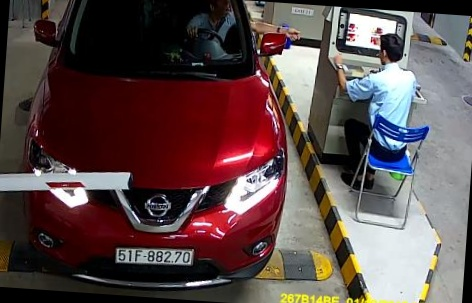plate: (111, 237, 208, 270)
